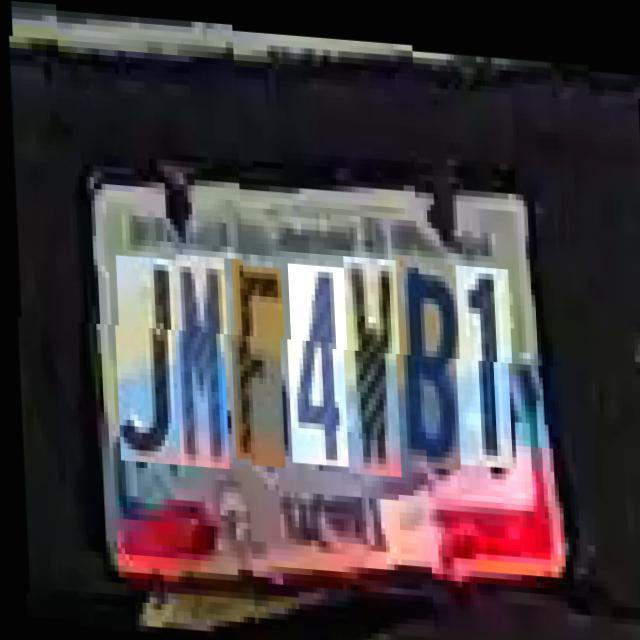1: (449, 246, 508, 448)
4: (282, 252, 344, 456)
B: (389, 242, 456, 451)
F: (226, 255, 281, 458)
J: (110, 253, 177, 462)
M: (170, 251, 226, 466)
W: (337, 245, 397, 464)
